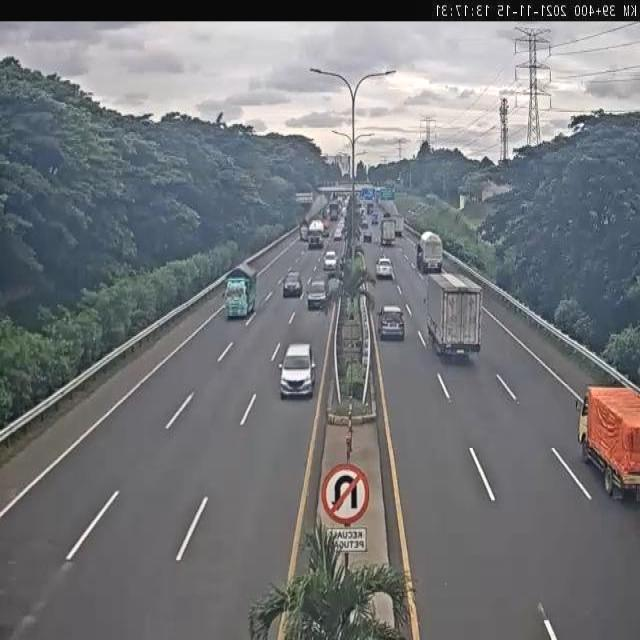Car: (278, 338, 316, 402), (377, 305, 405, 341), (307, 278, 328, 310), (282, 270, 302, 297), (376, 257, 394, 279), (323, 250, 338, 270)
Truck: (569, 370, 640, 489), (425, 275, 486, 358), (222, 260, 257, 319), (412, 226, 448, 271), (379, 217, 400, 250), (308, 218, 325, 248)
